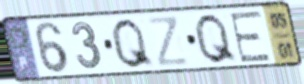3: (70, 19, 103, 72)
6: (33, 20, 72, 75)
E: (227, 9, 273, 64)
Q: (192, 11, 240, 66), (109, 16, 157, 71)
Z: (145, 14, 192, 69)
